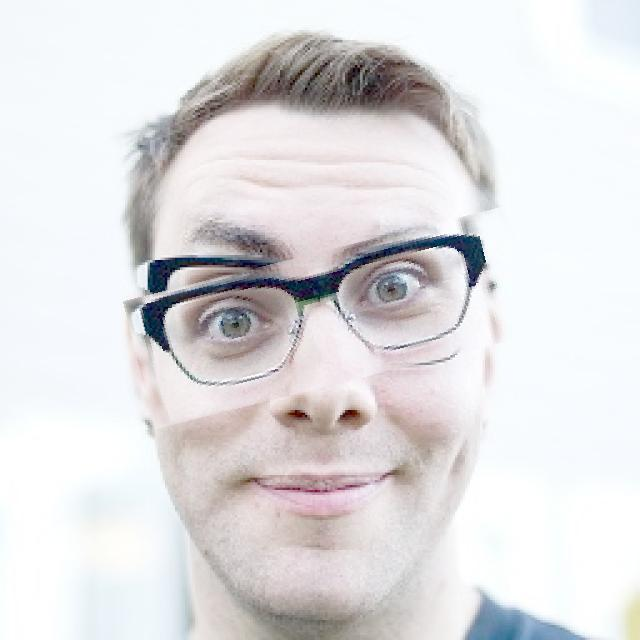glasses: (128, 230, 530, 407)
